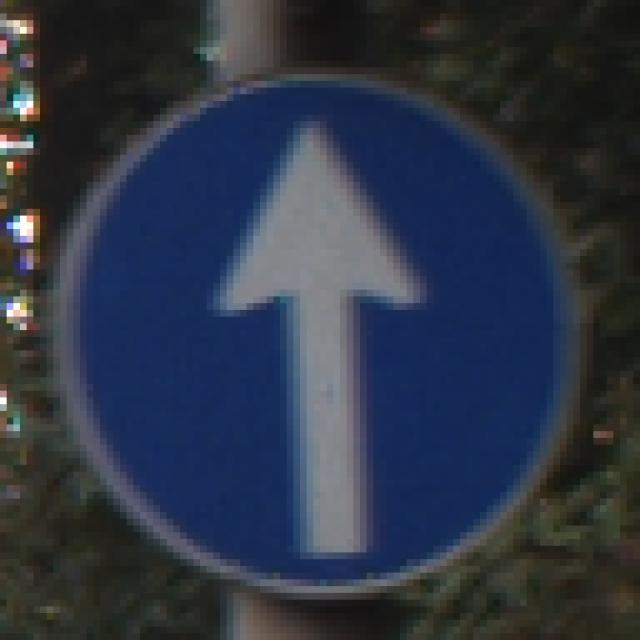compulsary ahead: (39, 55, 597, 586)
